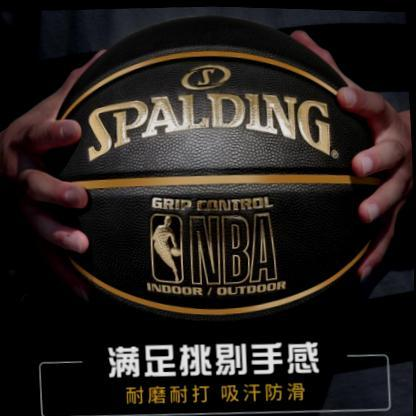basketball: (78, 5, 362, 352)
